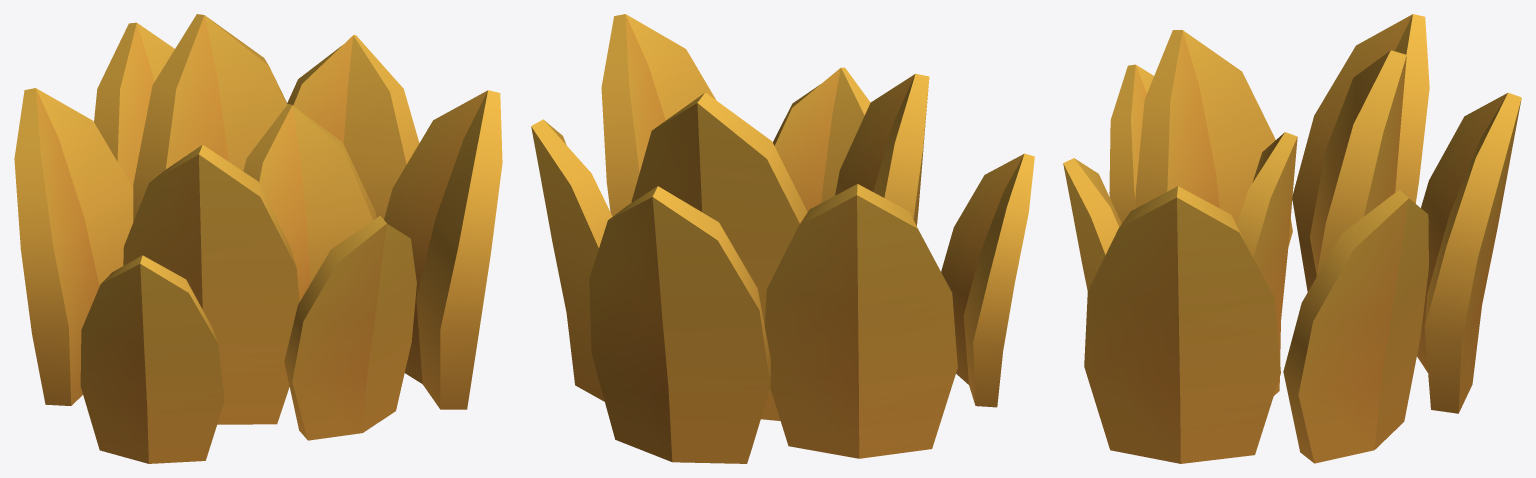
The model's file is grass_short.gltf.
3 views of the same model, side by side, from view 1: azimuth 30°, elevation 25°; view 2: azimuth 150°, elevation 25°; view 3: azimuth 270°, elevation 25° (orthographic). The views are drawn at different scales.
Parts seen in each view (by area): view 1: Grass_1_C_Color1; view 2: Grass_1_C_Color1; view 3: Grass_1_C_Color1.
Boxes of the visible parts, <box> form: Grass_1_C_Color1: <box>14,14,502,463</box>; Grass_1_C_Color1: <box>531,14,1034,463</box>; Grass_1_C_Color1: <box>1063,14,1521,463</box>.
Bounding box in the file's own units: 0.7518 × 0.5834 × 0.7171.
1 material, 1 textured.
